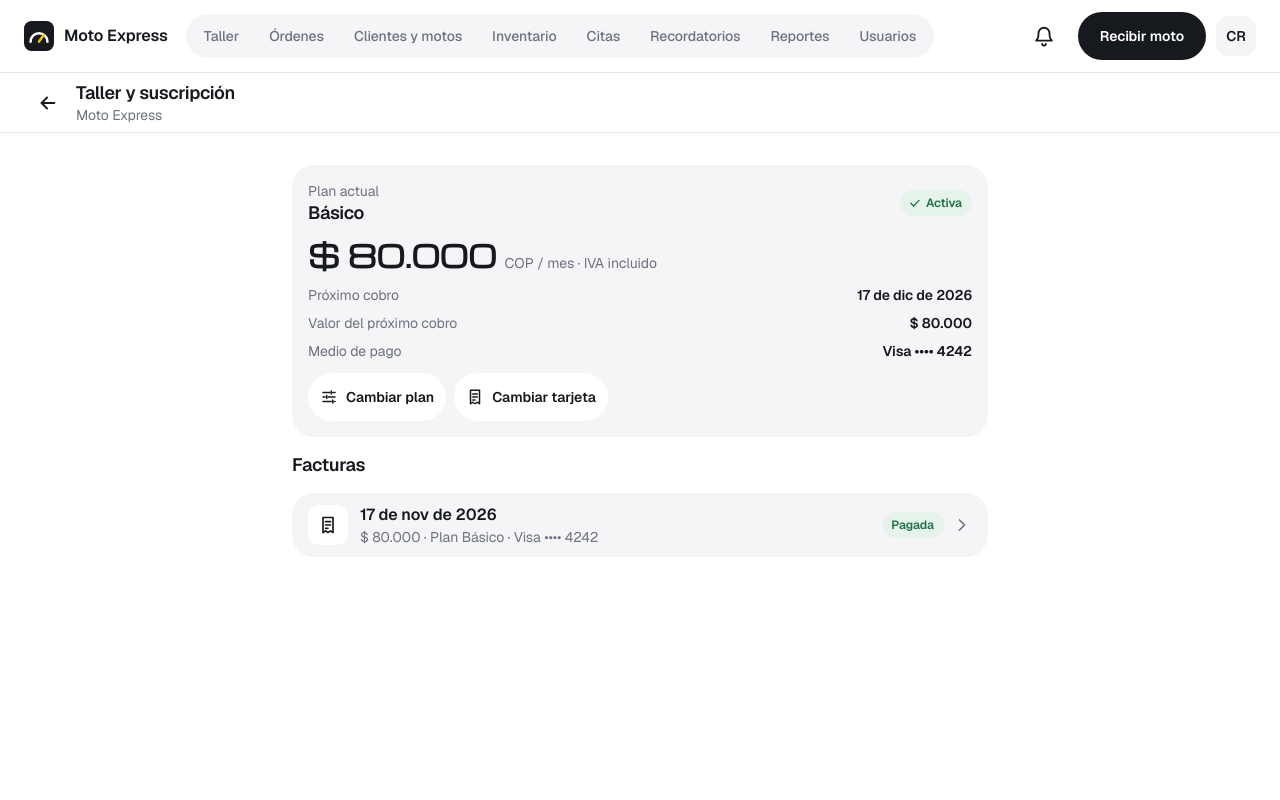
Scenario: HU-80 · Plan del taller y facturas › muestra el plan activo, el próximo cobro y el detalle de una factura con IVA
The image size is (1280, 800).
Expected: the heading "Básico" is shown, [308,201,364,224]
Expected: the text "Activa" is shown, [900,190,972,216]
Click the button with aria-label "Factura FV-0002" at [328, 525], box [292,493,988,557]
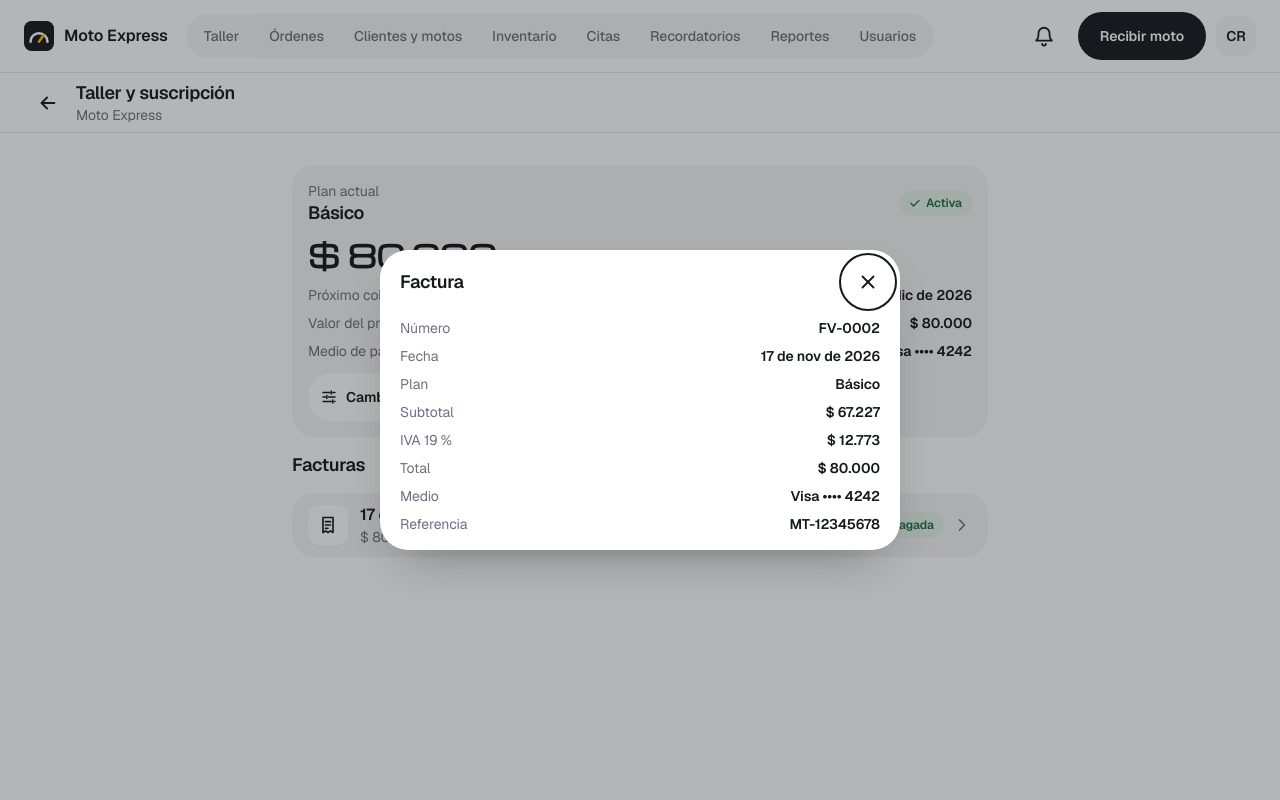
Expected: the text "$ 67.227" is shown, [826,403,880,421]
Expected: the text "$ 12.773" is shown, [827,431,880,449]
Expected: the text "$ 80.000" is shown, [818,459,880,477]
